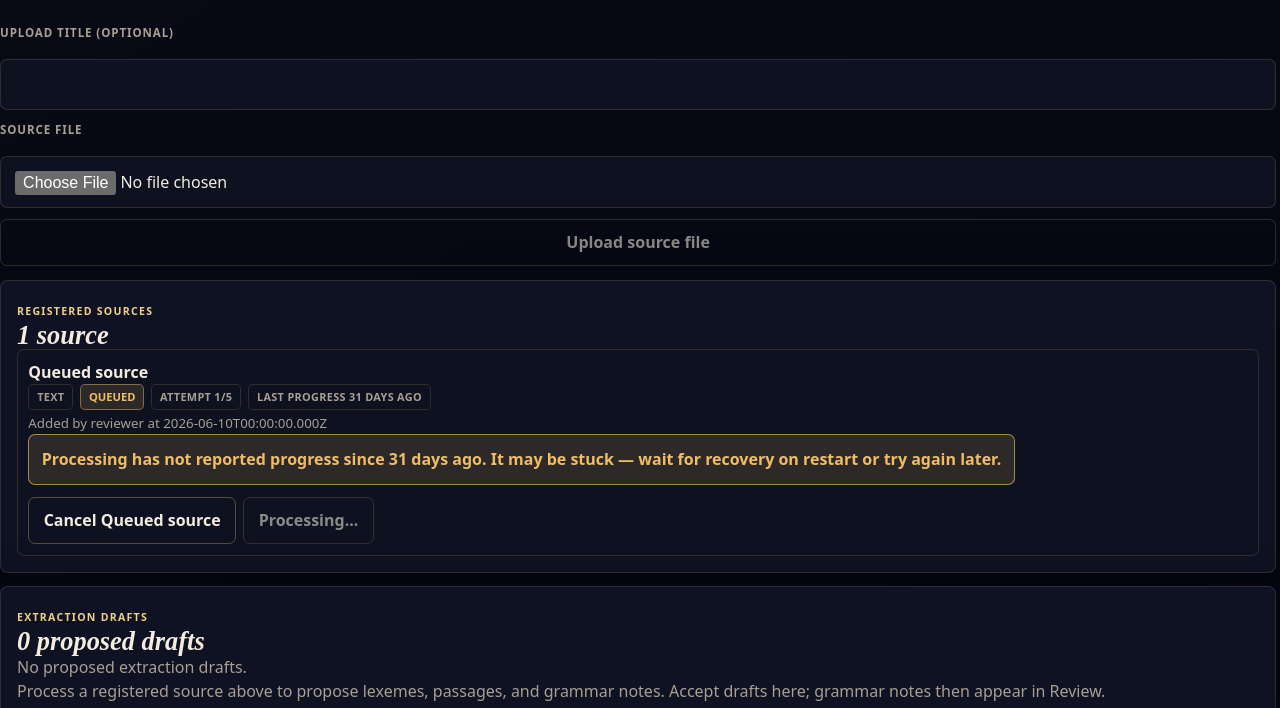
Test: IngestView cancel queued processing › surfaces the localized active-cancel 409 message
The width and height of the screenshot is (1280, 708).
(page scrolled)
Click the button "Cancel Queued source": (132,520) [28,496,236,544]
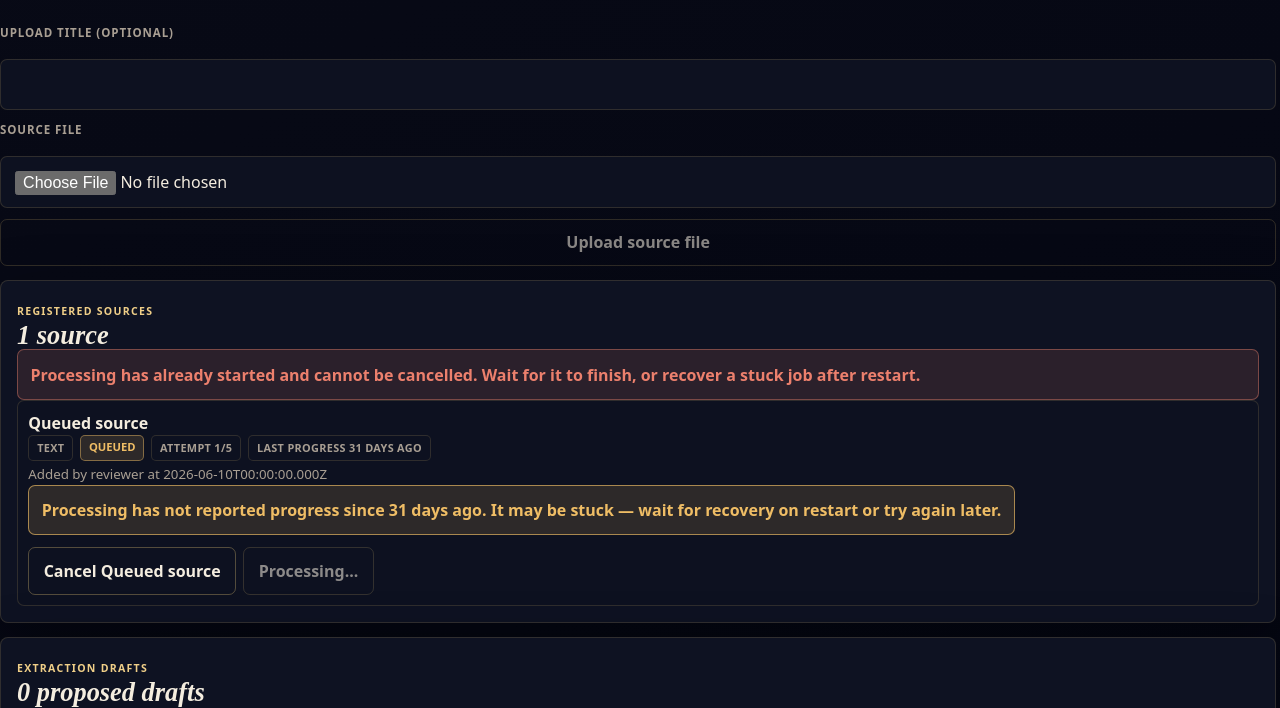
expect the 1st message shows "Processing has already started and cannot be cancelled. Wait for it to finish, or recover a stuck job after restart.": met, box [30,364,920,386]
